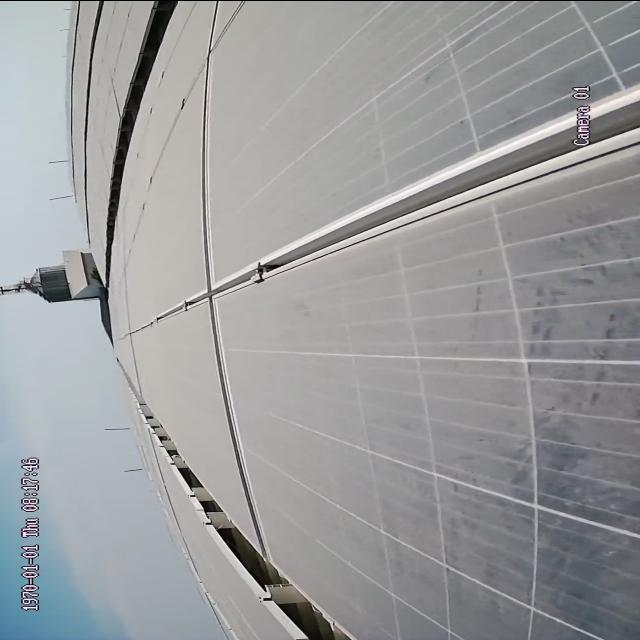interior panel: (225, 82, 630, 299), (203, 313, 269, 543), (196, 21, 223, 275), (133, 286, 206, 336)
outher panel: (135, 394, 359, 638), (109, 2, 185, 251)
